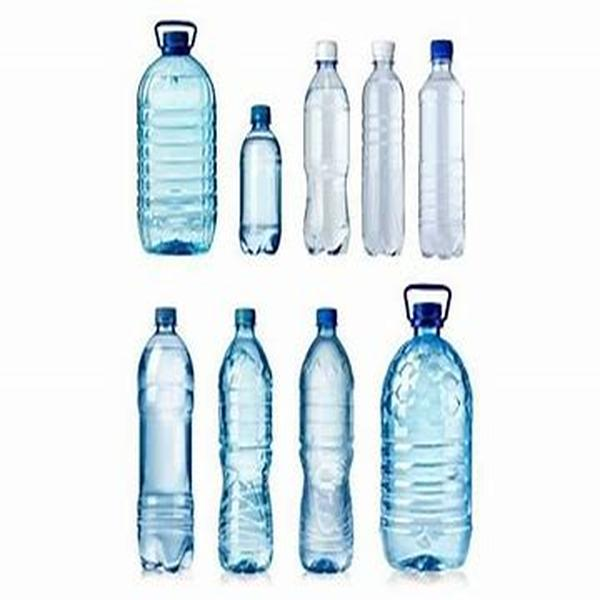tutuma: (375, 279, 478, 576), (132, 10, 220, 261), (128, 302, 199, 579), (212, 304, 278, 580), (295, 306, 361, 582), (298, 36, 354, 259), (415, 33, 468, 263), (359, 33, 409, 259), (232, 99, 285, 263)
